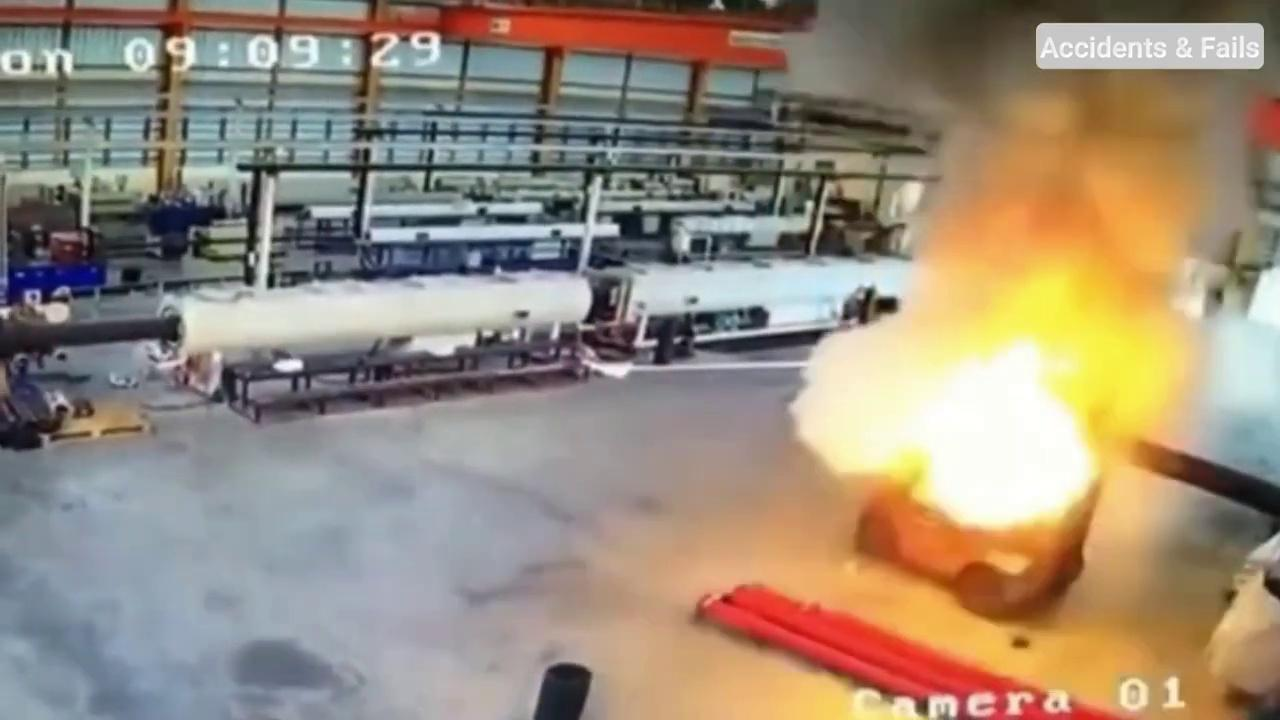fire: (692, 64, 1246, 618)
